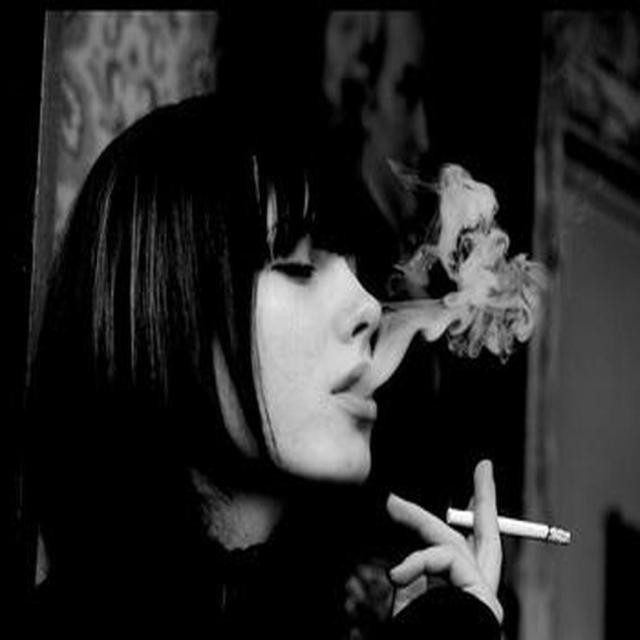smoking: (53, 82, 579, 632)
